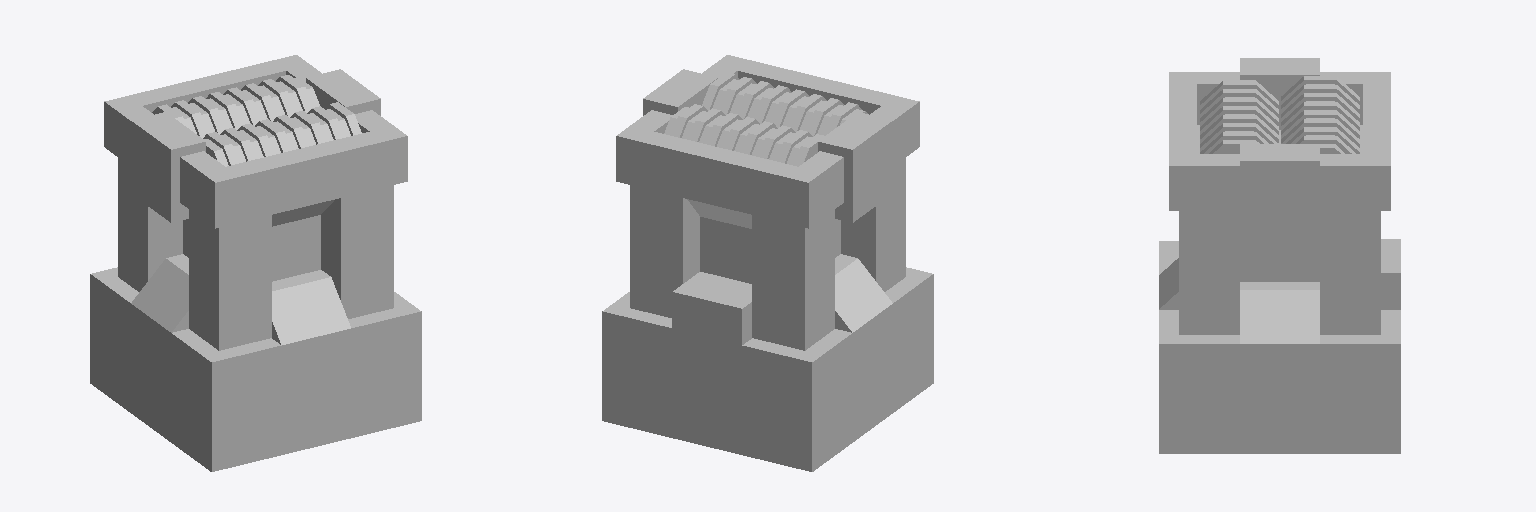
File: crusher.obj
3 views of the same model, side by side, from view 1: azimuth 30°, elevation 25°; view 2: azimuth 150°, elevation 25°; view 3: azimuth 270°, elevation 25° (orthographic).
Visible parts, largest first — view 1: base, body, basin2, io_right, rotor_front, rotor_back, io_left; view 2: base, body, basin2, io_right, rotor_back, rotor_front, io_left; view 3: base, body, basin2, io_left, rotor_front, rotor_back, io_right.
Part boxes in pixels (x1,y1,x2,y2): base: (90,254,421,471); body: (118,158,393,350); basin2: (104,55,407,228); io_right: (131,112,205,222); rotor_front: (152,75,319,138); rotor_back: (203,102,361,166); io_left: (306,69,380,115); base: (602,254,933,471); body: (630,158,905,350); basin2: (616,55,919,228); io_right: (818,112,892,222); rotor_back: (702,72,867,136); rotor_front: (664,104,823,166); io_left: (643,69,717,115); base: (1159,239,1400,453); body: (1179,211,1380,334); basin2: (1169,72,1390,210); io_left: (1240,144,1319,233); rotor_front: (1281,76,1359,153); rotor_back: (1200,80,1278,153); io_right: (1240,58,1319,129).
Size of the model in its own units: 3 by 4 by 3.